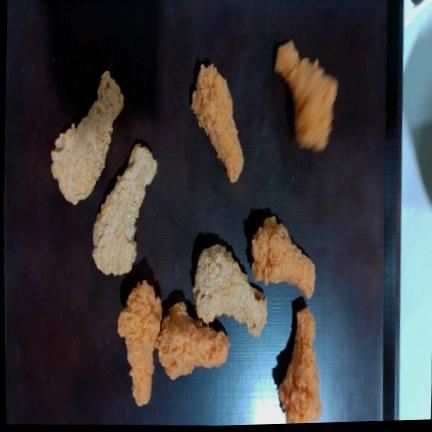chicken: (52, 71, 123, 205), (93, 144, 157, 275), (275, 40, 338, 151), (193, 244, 267, 336), (192, 64, 244, 182), (156, 302, 230, 380), (118, 280, 162, 405), (252, 216, 315, 298), (279, 307, 321, 424)
